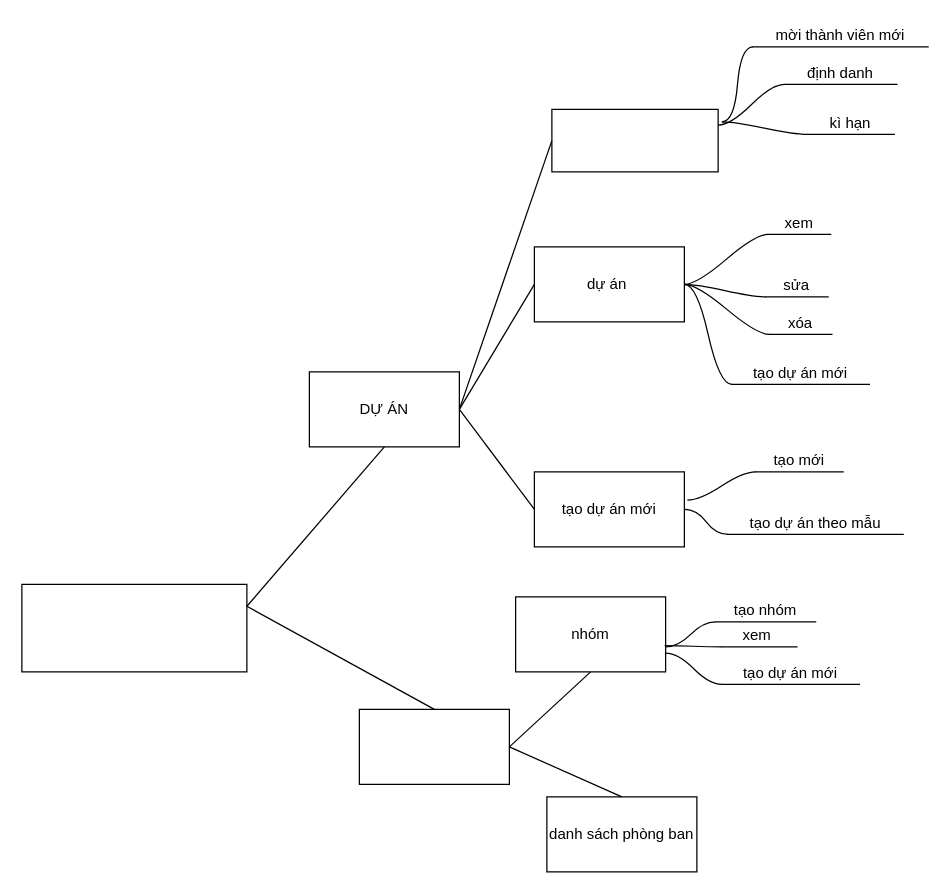
Image size: 950x894. Some labels were removed from this diagram. The centre of each missing label's shape, as x and y in pixels:
"hệ thống quản lý dự án" belongs at (x=134, y=627).
"Phòng ban" belongs at (x=433, y=746).
"quản lý thành viên" belongs at (x=634, y=140).
